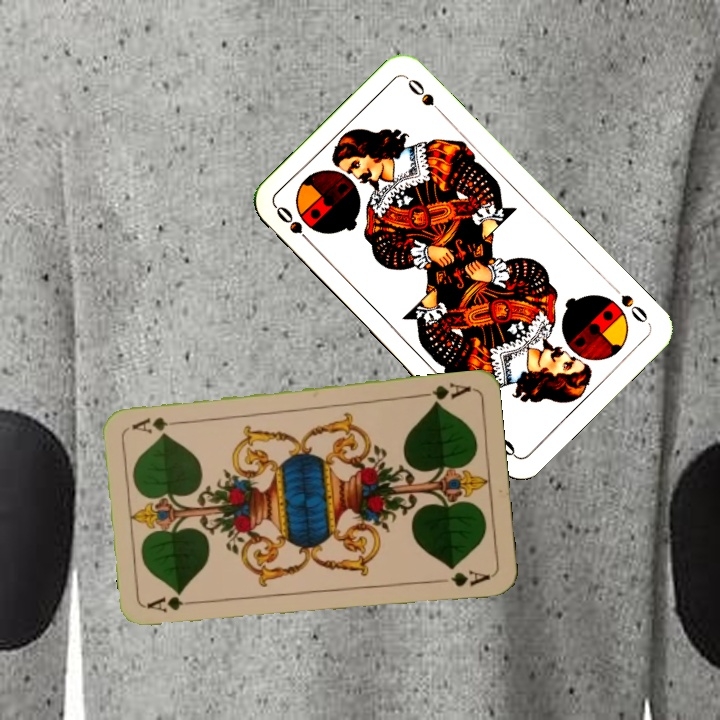GA: (414, 379, 474, 408), (144, 593, 203, 615)
SO: (272, 201, 317, 250), (616, 290, 652, 327)
